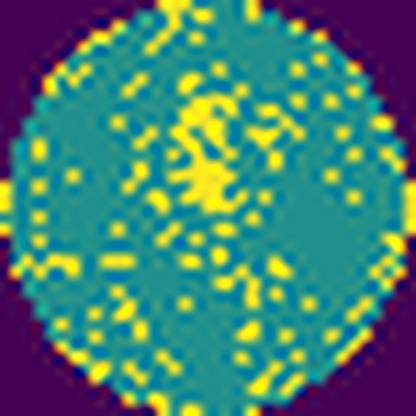Loc: (167, 92, 251, 211)
